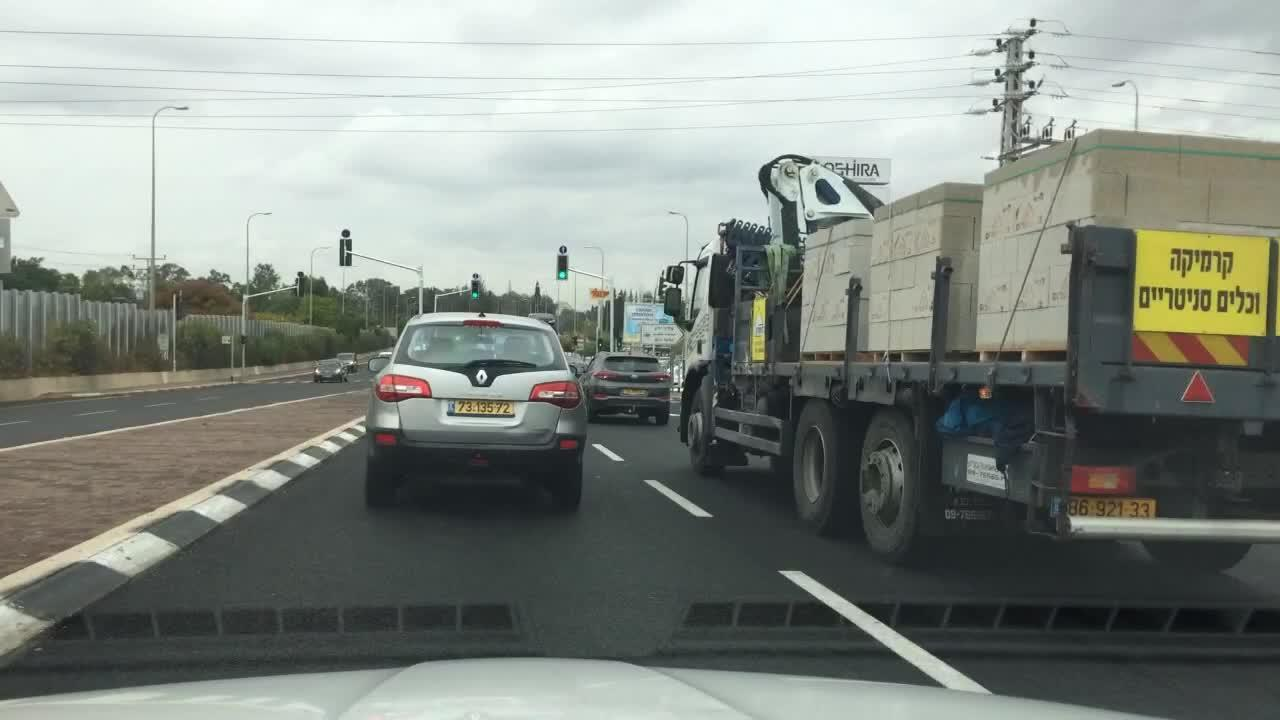Renault: (473, 362, 495, 390)
